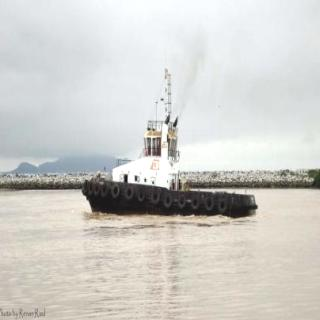Tug Boat: (78, 62, 256, 214)
